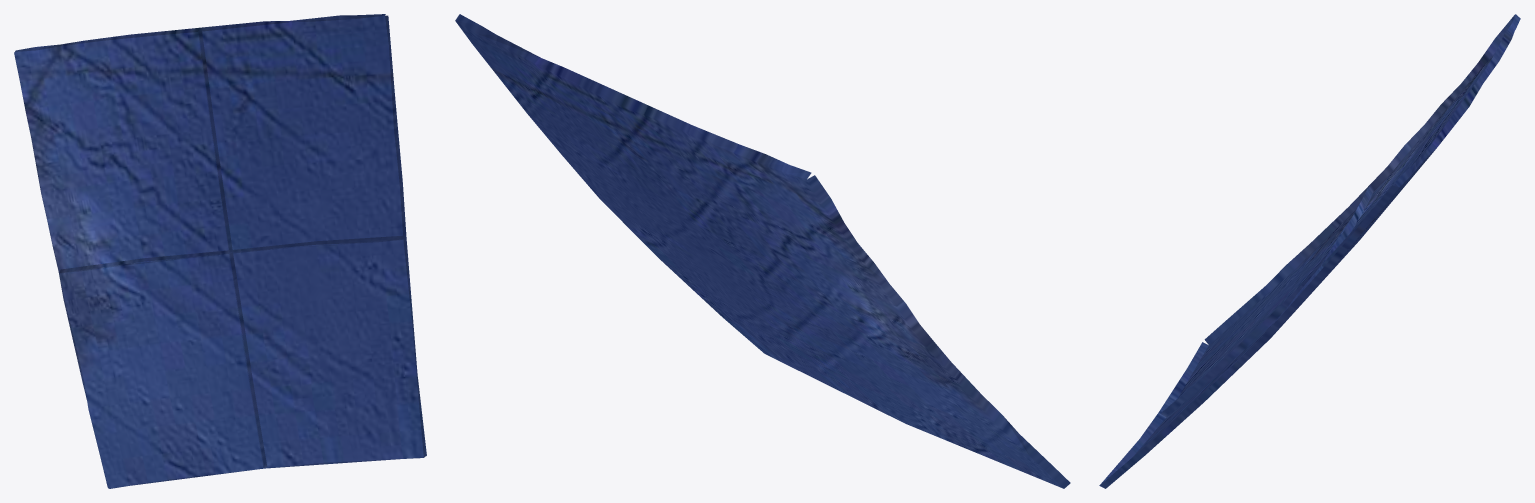
3 views of the same model, side by side, from view 1: azimuth 30°, elevation 25°; view 2: azimuth 150°, elevation 25°; view 3: azimuth 270°, elevation 25° (orthographic). The views are drawn at different scales.
Bounding box in the file's own units: 1160553 × 984615 × 1053100.
1 material, 1 textured.
